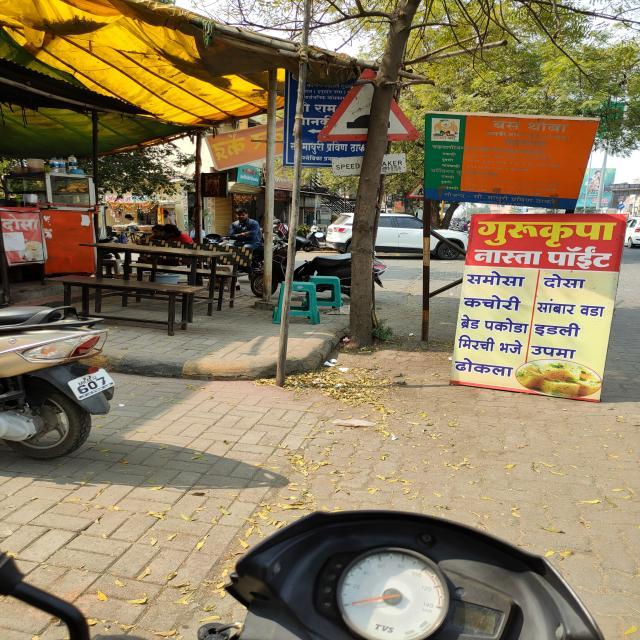hump or rough road: (320, 69, 419, 140)
